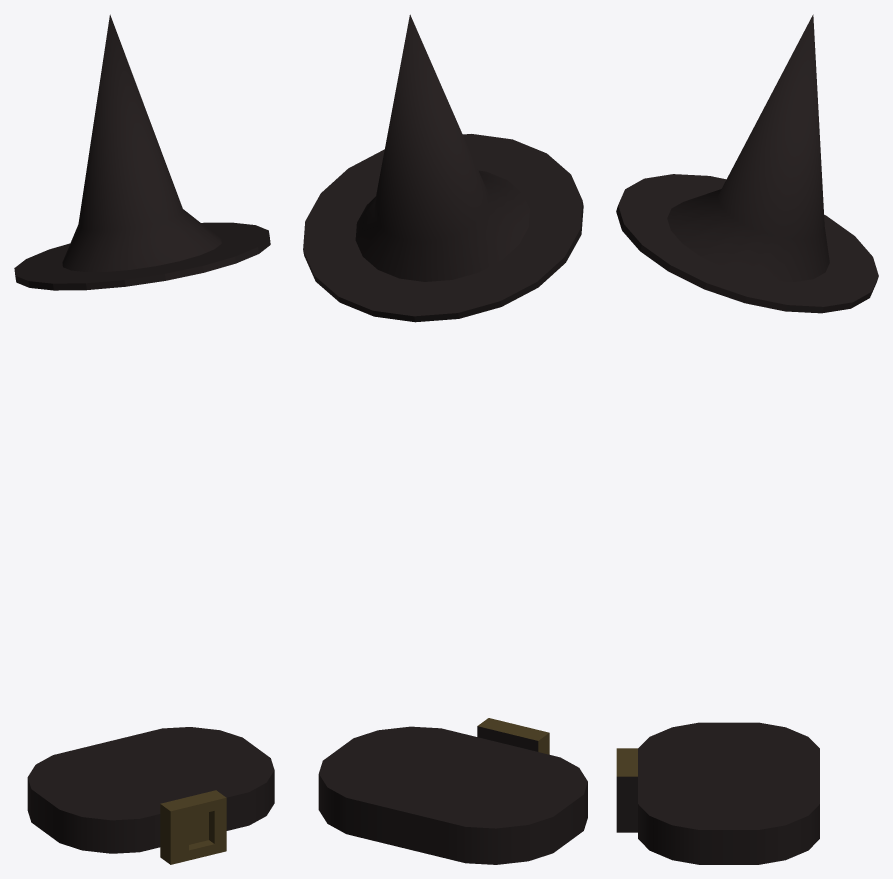
The model's file is Hat_and_Belt.fbx.
3 views of the same model, side by side, from view 1: azimuth 30°, elevation 25°; view 2: azimuth 150°, elevation 25°; view 3: azimuth 270°, elevation 25° (orthographic). The views are drawn at different scales.
Parts seen in each view (by area): view 1: pCube1, pCone1; view 2: pCone1, pCube1; view 3: pCone1, pCube1.
Part boxes in pixels (x1,y1,x2,y2): pCube1: (27, 727, 274, 864); pCone1: (14, 14, 270, 290); pCone1: (303, 14, 583, 322); pCube1: (318, 718, 587, 864); pCone1: (616, 14, 878, 313); pCube1: (616, 722, 819, 864).
Bounding box in the file's own units: 29.1 × 95.38 × 28.14.
